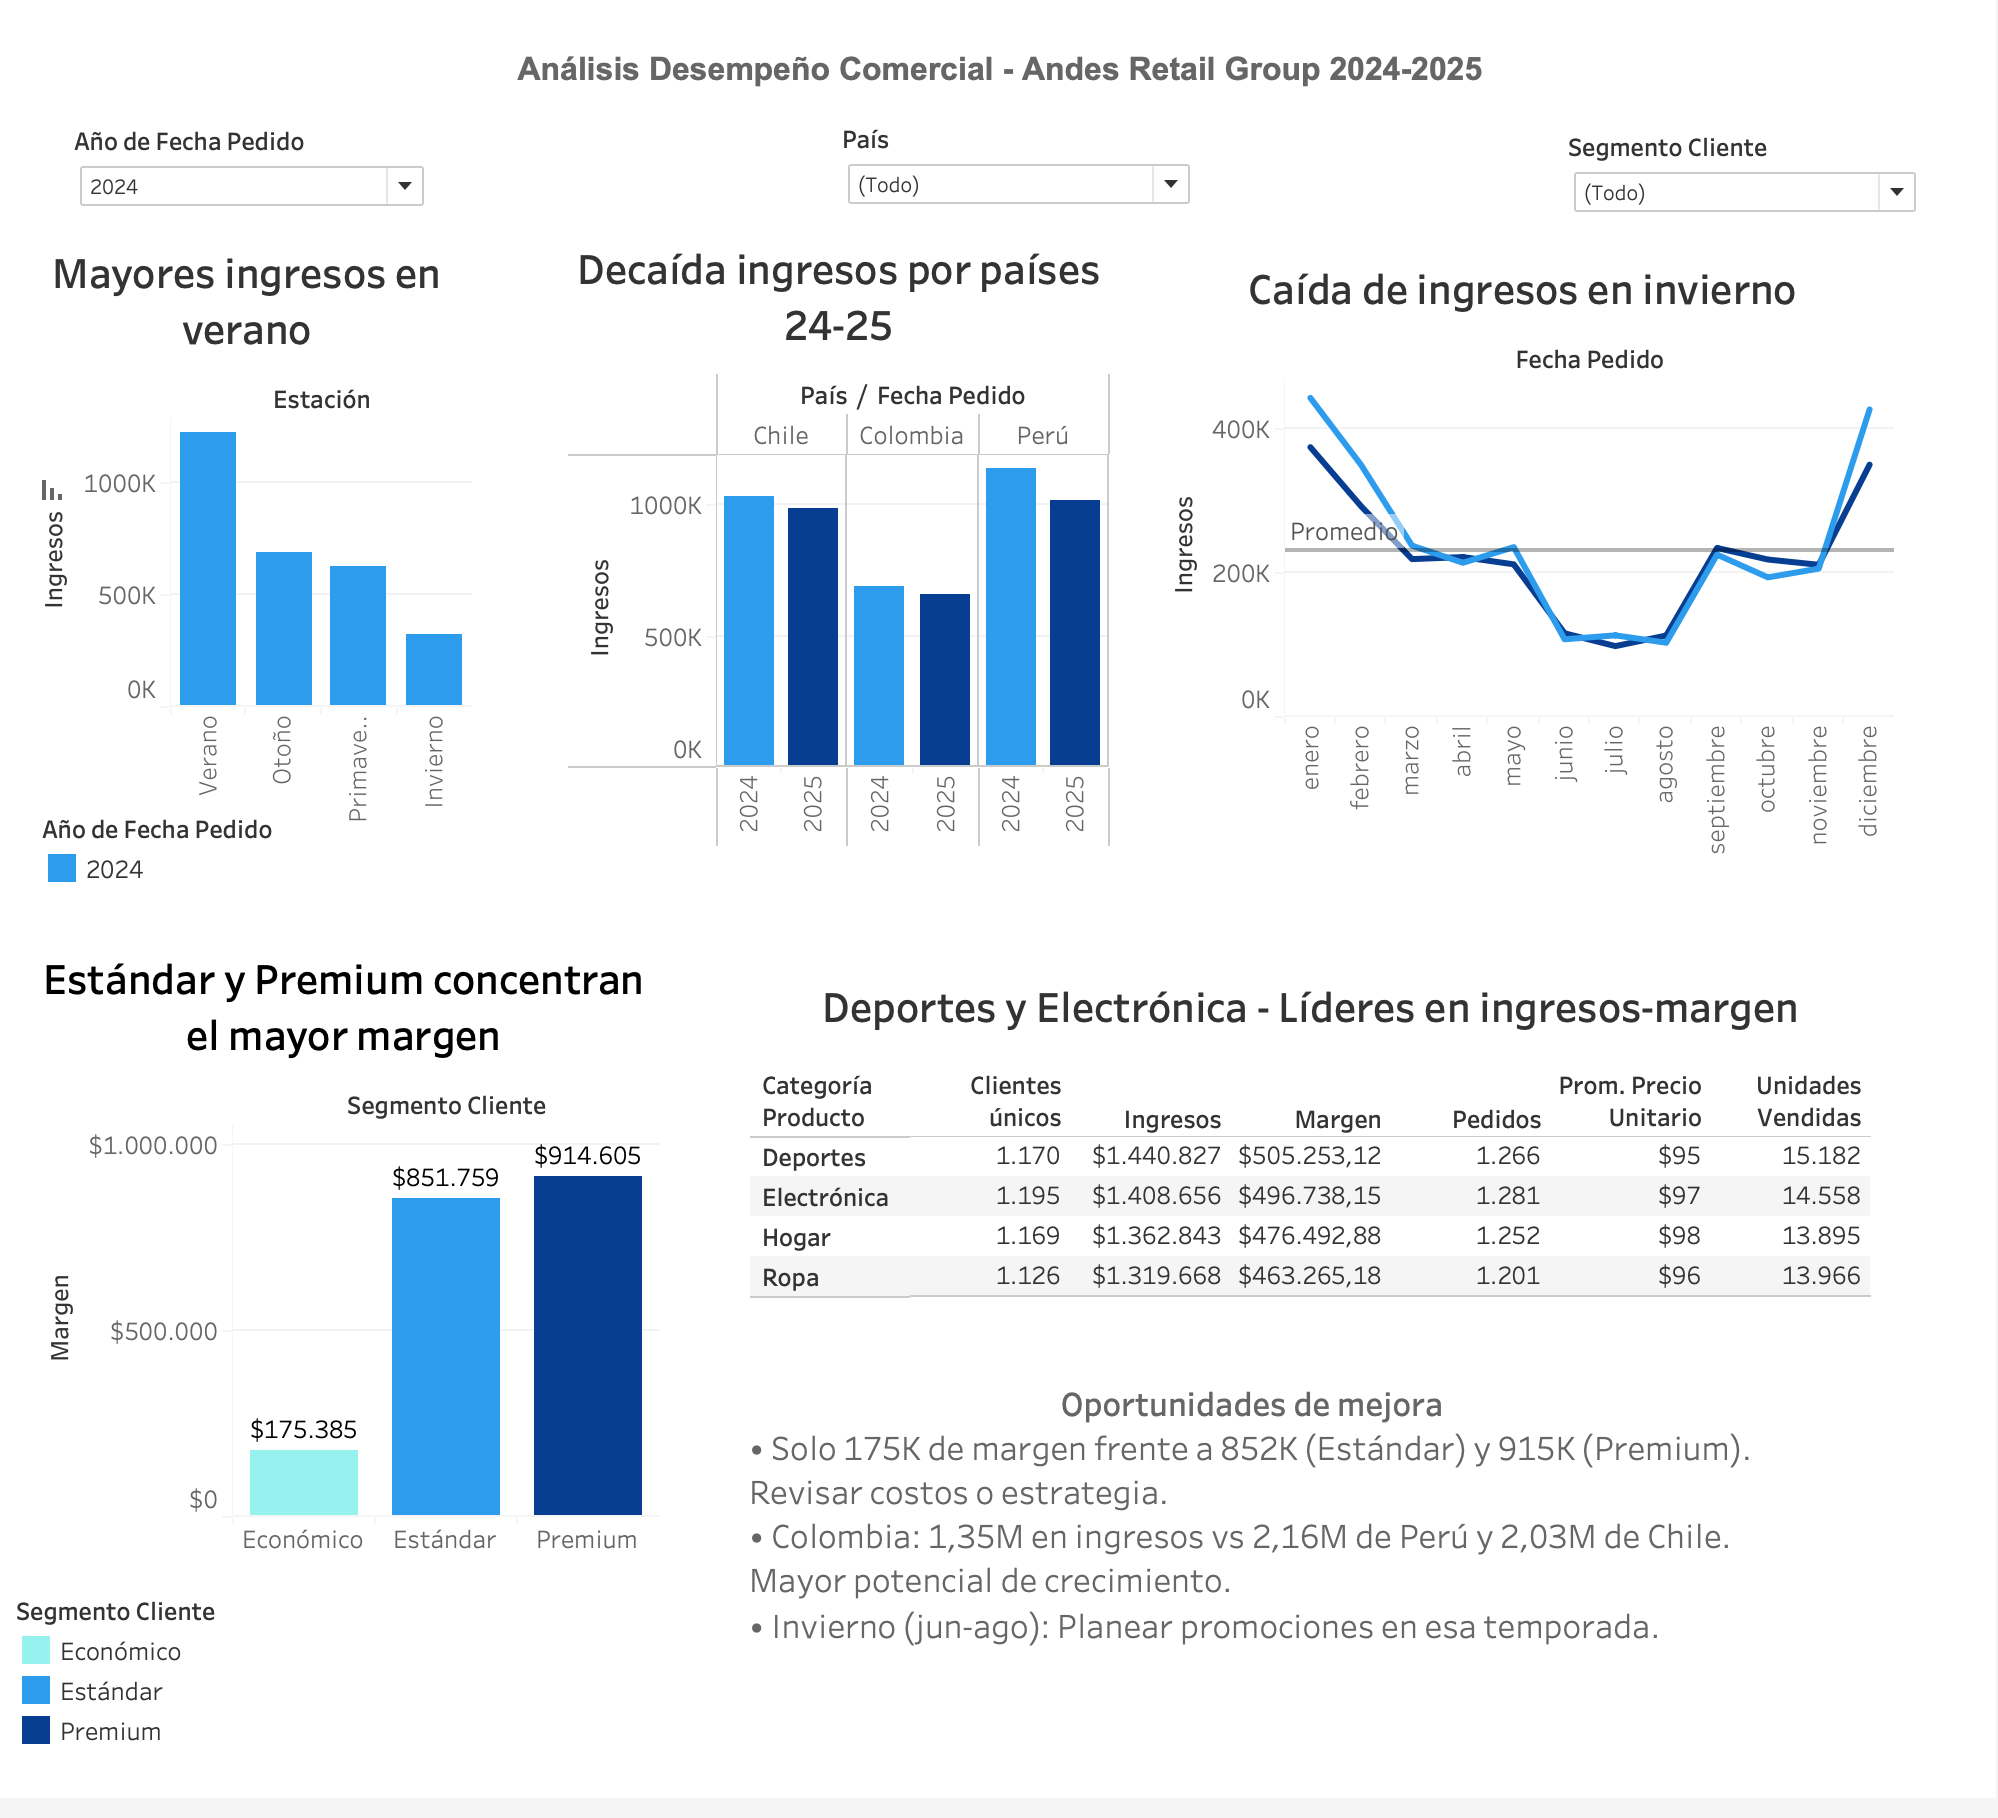

Layout of this report page (visuals, bound fields, positions):
{"tool":"tableau","page":{"name":"Vista Detalle","canvas":[1000,900],"ordinal":1},"visuals":[{"type":"text","box":[10,10,984,52]},{"type":"filter","title":"Ingresos por estación","param":"[federated.0pt8d6f0jhpu5f15hn6mf12csgsh].[none:País:nk]","box":[423,62.1,177,81]},{"type":"filter","title":"Ingresos por estación","param":"[federated.0pt8d6f0jhpu5f15hn6mf12csgsh].[yr:Fecha_Pedido:ok]","box":[39,63,178,77]},{"type":"filter","title":"Ingresos por estación","param":"[federated.0pt8d6f0jhpu5f15hn6mf12csgsh].[none:Segmento_Cliente:nk]","box":[786,65.7,177,78.3]},{"type":"worksheet","title":"País por año","mark":"Bar","rows":["Ingresos"],"cols":["País","Fecha_Pedido"],"box":[286,117,271,308]},{"type":"worksheet","title":"Ingresos por estación","mark":"Automatic","rows":["Ingresos"],"cols":["Estación"],"box":[13,119,225,295]},{"type":"worksheet","title":"Evolución mensual por año","mark":"Line","rows":["Ingresos"],"cols":["Fecha_Pedido"],"box":[578,127,371,312]},{"type":"legend","title":"Ingresos por estación","param":"[federated.0pt8d6f0jhpu5f15hn6mf12csgsh].[yr:Fecha_Pedido:ok]","box":[23,407,253,62]},{"type":"worksheet","title":"Segmento vs margen","mark":"Automatic","rows":["Calculation_0013675029540873"],"cols":["Segmento_Cliente"],"box":[16,472,316,308]},{"type":"worksheet","title":"Tabla","mark":"Automatic","rows":["Categoría_Producto"],"box":[377,486,589,188]},{"type":"text","box":[374,681,508,159]},{"type":"legend","title":"Segmento vs margen","param":"[federated.0pt8d6f0jhpu5f15hn6mf12csgsh].[none:Segmento_Cliente:nk]","box":[10,798,221,83]}]}

Visuals, with their boxes in screenshot pixels (x1, y1, x2, y2), scaled from the page's 1000x900 canvas onto the 1998x1818 screenshot:
text: select_region(20, 20, 1986, 125)
"Ingresos por estación" filter: select_region(845, 125, 1199, 289)
"Ingresos por estación" filter: select_region(78, 127, 434, 283)
"Ingresos por estación" filter: select_region(1570, 133, 1924, 291)
"País por año" worksheet (Bar marks): select_region(571, 236, 1113, 858)
"Ingresos por estación" worksheet: select_region(26, 240, 476, 836)
"Evolución mensual por año" worksheet (Line marks): select_region(1155, 257, 1896, 887)
"Ingresos por estación" legend: select_region(46, 822, 551, 947)
"Segmento vs margen" worksheet: select_region(32, 953, 663, 1576)
"Tabla" worksheet: select_region(753, 982, 1930, 1361)
text: select_region(747, 1376, 1762, 1697)
"Segmento vs margen" legend: select_region(20, 1612, 462, 1780)
